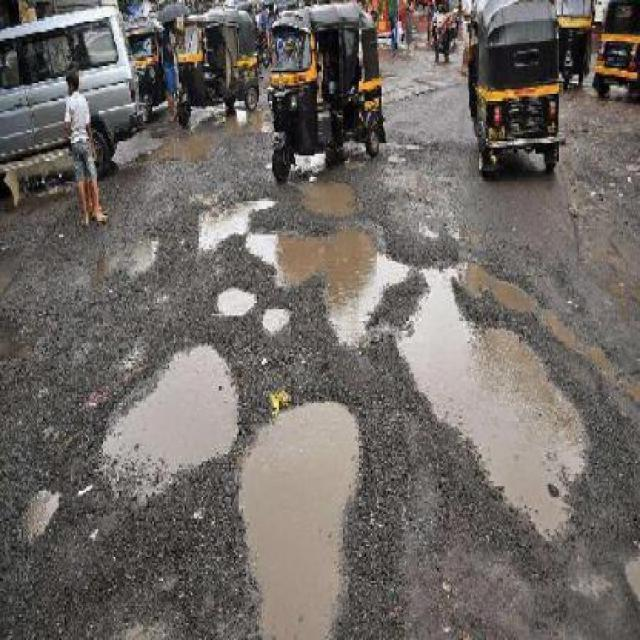pothole: (398, 243, 597, 539), (242, 392, 367, 638), (100, 337, 242, 500), (238, 219, 414, 347), (195, 191, 277, 252), (298, 175, 361, 220), (18, 480, 64, 540), (214, 280, 257, 316), (261, 303, 294, 331)
